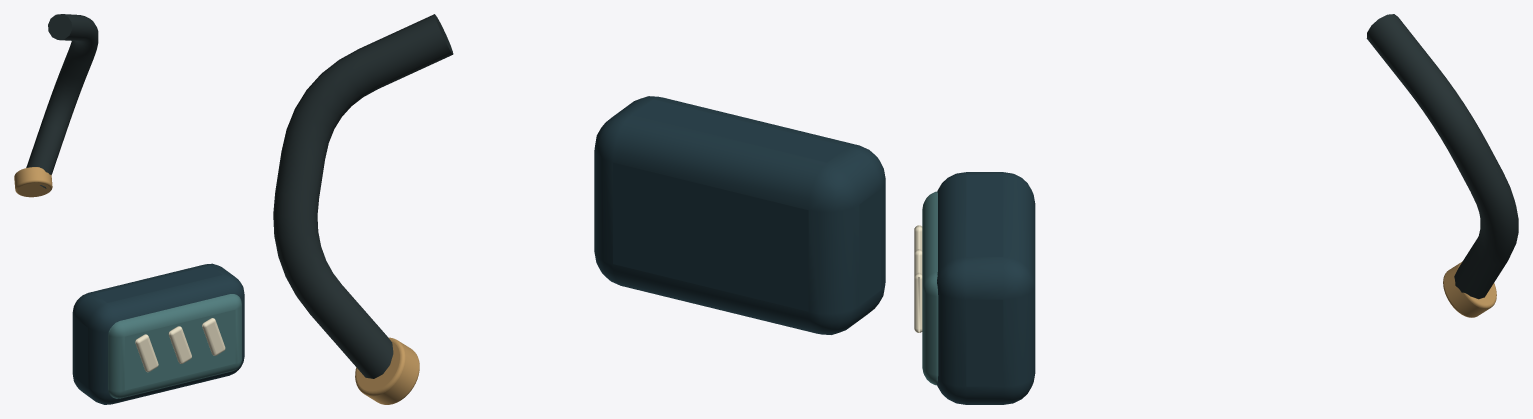
Rendered from SM_Mk2_Arm_R_Fittings.fbx.
The picture shows the model from 3 angles, left to right: view 1: azimuth 30°, elevation 25°; view 2: azimuth 150°, elevation 25°; view 3: azimuth 270°, elevation 25°; orthographic projection. The views are drawn at different scales.
Parts seen in each view (by area): view 1: SM_Mk2_Arm_R_Fittings; view 2: SM_Mk2_Arm_R_Fittings; view 3: SM_Mk2_Arm_R_Fittings.
Boxes of the visible parts, left/top/right/bottom form: SM_Mk2_Arm_R_Fittings: left=14, top=14, right=244, bottom=404; SM_Mk2_Arm_R_Fittings: left=273, top=14, right=885, bottom=404; SM_Mk2_Arm_R_Fittings: left=914, top=14, right=1518, bottom=404.
Size of the model in its own units: 18.7 by 37.69 by 25.89.
